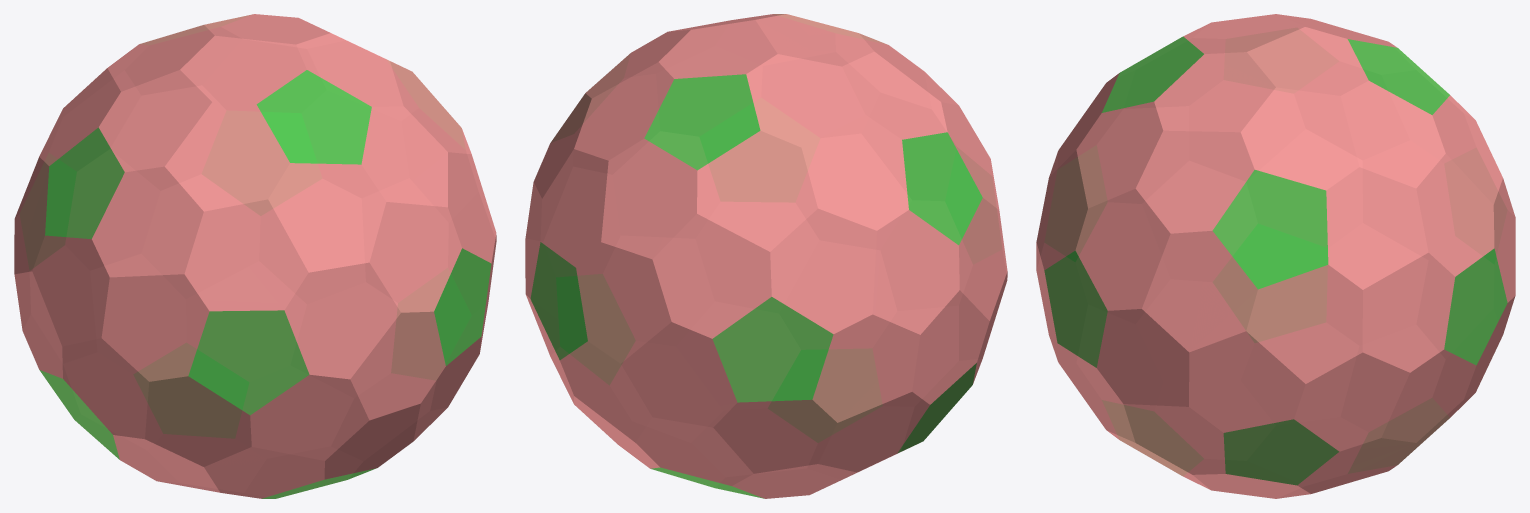
Rendered from BiscribedHexpropelloDodecahedron.obj.
3 views of the same model, side by side, from view 1: azimuth 30°, elevation 25°; view 2: azimuth 150°, elevation 25°; view 3: azimuth 270°, elevation 25° (orthographic).
Size of the model in its own units: 2.04 by 2.04 by 2.04.
